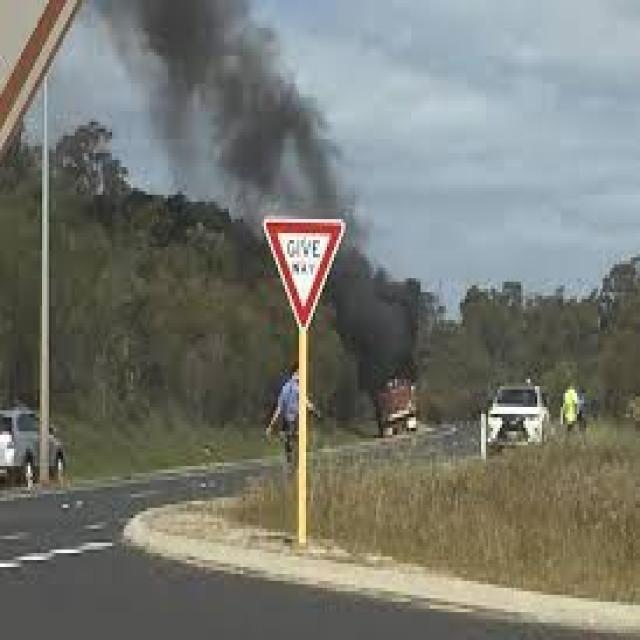smoke: (94, 0, 443, 380)
